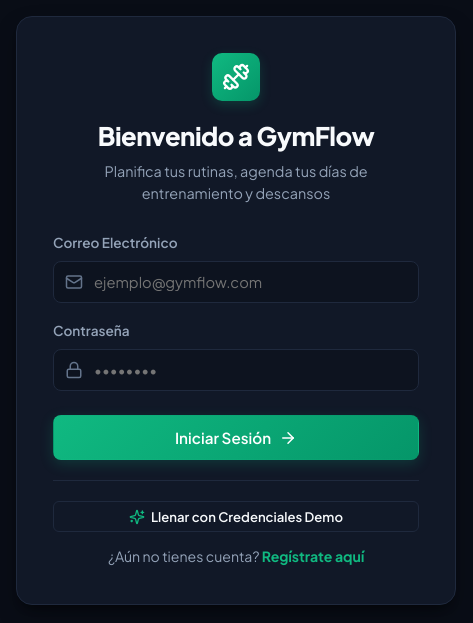
LoginPage › el botón demo rellena las credenciales de prueba
Click the button "Llenar con Credenciales Demo": (236, 517) [53,501,419,532]
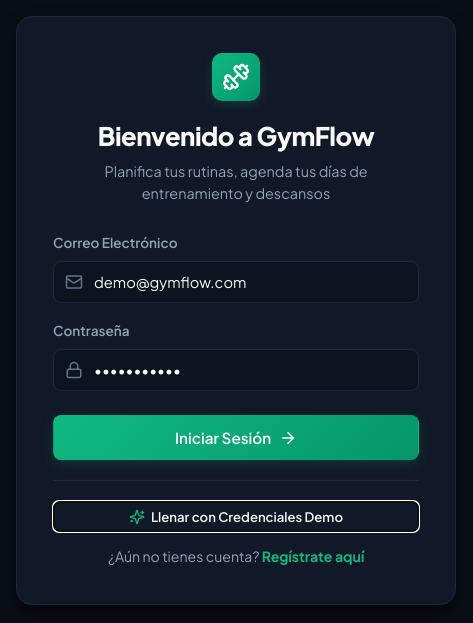
Now the field with placeholder "ejemplo@gymflow.com" holds "demo@gymflow.com", box [53,261,419,303]
